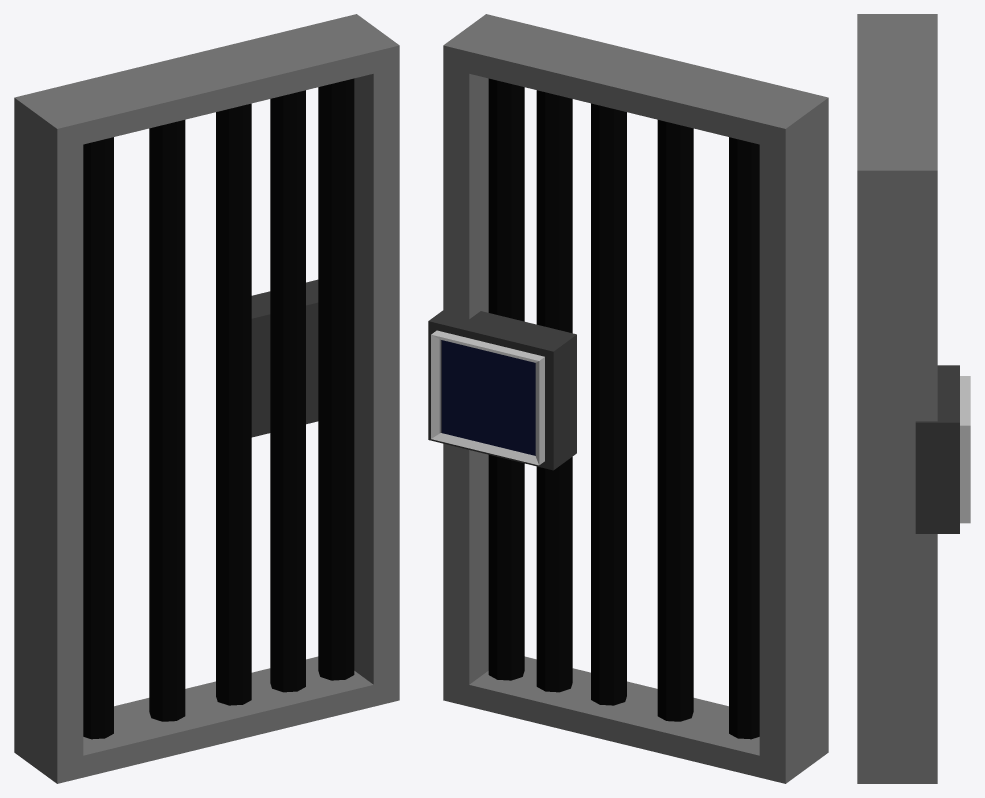
File: CageDoor.glb
3 renders of one model, left to right at view 1: azimuth 30°, elevation 25°; view 2: azimuth 150°, elevation 25°; view 3: azimuth 270°, elevation 25°, orthographic. The views are drawn at different scales.
Parts seen in each view (by area): view 1: CageDoor; view 2: CageDoor; view 3: CageDoor.
Part boxes in pixels (x1=…): CageDoor: x1=14, y1=14, x2=399, y2=783; CageDoor: x1=428, y1=14, x2=828, y2=783; CageDoor: x1=857, y1=14, x2=970, y2=783.
Size of the model in its own units: 1.61 by 2.91 by 0.4887.
2 materials, 2 textured.
